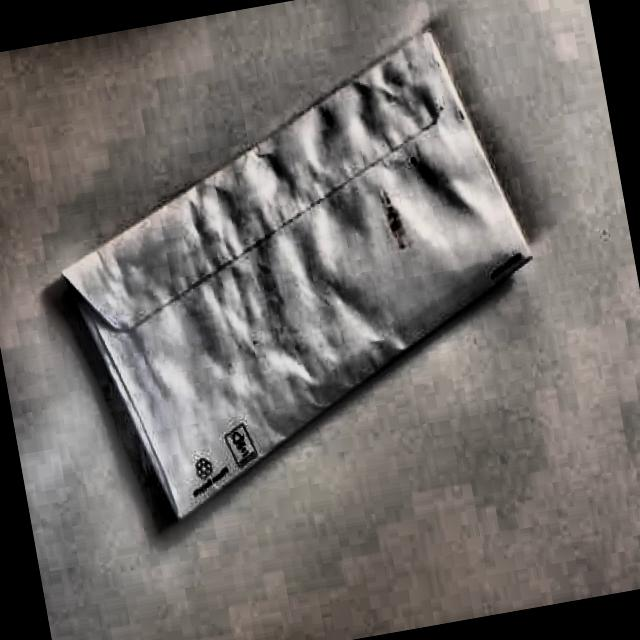paper: (28, 11, 566, 546)
